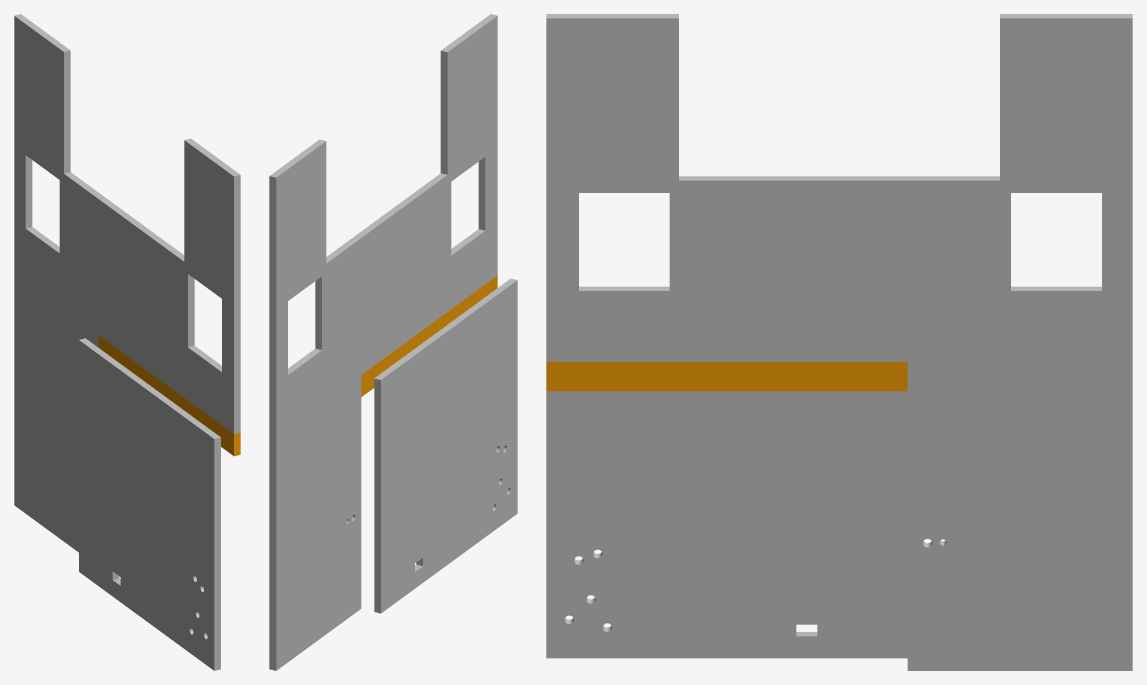
File: Phase33 (2).fbx
The picture shows the model from 3 angles, left to right: view 1: azimuth 30°, elevation 25°; view 2: azimuth 150°, elevation 25°; view 3: azimuth 270°, elevation 25°; orthographic projection. The views are drawn at different scales.
Parts seen in each view (by area): view 1: Базовая стена:CPS_Наружная_Сэндвич-панель120:453931, Базовая стена:CPS_Наружная_Сэндвич-панель120:453923, Базовая стена:CPS_Наружная_Сэндвич-панель120:453941, Базовая стена:CPS_Наружная_Сэндвич-панель120:456876, Базовая стена:CPS_Наружная_Сэндвич-панель120:456884, Базовая стена:CPS_Наружная_Сэндвич-панель120:456436, Базовая стена:CPS_Наружная_Сэндвич-панель120:453695, Базовая стена:CPS_Наружная_Сэндвич-панель120:453907, Базовая стена:CPS_Наружная_Сэндвич-панель120:453915, Базовая стена:CPS_Наружная_Сэндвич-панель120:453949, Базовая стена:CPS_Наружная_Сэндвич-панель120:454328, Базовая стена:CPS_Наружная_Сэндвич-панель120:515156 (+1 smaller); view 2: Базовая стена:CPS_Наружная_Сэндвич-панель120:453923, Базовая стена:CPS_Наружная_Сэндвич-панель120:453931, Базовая стена:CPS_Наружная_Сэндвич-панель120:453941, Базовая стена:CPS_Наружная_Сэндвич-панель120:456884, Базовая стена:CPS_Наружная_Сэндвич-панель120:456876, Базовая стена:CPS_Наружная_Сэндвич-панель120:456436, Базовая стена:CPS_Наружная_Сэндвич-панель120:453695, Базовая стена:CPS_Наружная_Сэндвич-панель120:453915, Базовая стена:CPS_Наружная_Сэндвич-панель120:453907, Базовая стена:CPS_Наружная_Сэндвич-панель120:453949, Базовая стена:CPS_Наружная_Сэндвич-панель120:454328, Базовая стена:CPS_Наружная_Сэндвич-панель120:515156 (+1 smaller); view 3: Базовая стена:CPS_Наружная_Сэндвич-панель120:453923, Базовая стена:CPS_Наружная_Сэндвич-панель120:453931, Базовая стена:CPS_Наружная_Сэндвич-панель120:456876, Базовая стена:CPS_Наружная_Сэндвич-панель120:456436, Базовая стена:CPS_Наружная_Сэндвич-панель120:453941, Базовая стена:CPS_Наружная_Сэндвич-панель120:456884, Базовая стена:CPS_Наружная_Сэндвич-панель120:453915, Базовая стена:CPS_Наружная_Сэндвич-панель120:453695, Базовая стена:CPS_Наружная_Сэндвич-панель120:453907, Базовая стена:CPS_Наружная_Сэндвич-панель120:453949, Базовая стена:CPS_Наружная_Сэндвич-панель120:454328, Базовая стена:CPS_Наружная_Сэндвич-панель120:444670.
Boxes of the visible parts, <box> form: Базовая стена:CPS_Наружная_Сэндвич-панель120:453931: <box>14,156,240,386</box>; Базовая стена:CPS_Наружная_Сэндвич-панель120:453923: <box>14,226,240,434</box>; Базовая стена:CPS_Наружная_Сэндвич-панель120:453941: <box>14,86,240,316</box>; Базовая стена:CPS_Наружная_Сэндвич-панель120:456876: <box>79,432,220,600</box>; Базовая стена:CPS_Наружная_Сэндвич-панель120:456884: <box>79,362,220,530</box>; Базовая стена:CPS_Наружная_Сэндвич-панель120:456436: <box>79,502,220,670</box>; Базовая стена:CPS_Наружная_Сэндвич-панель120:453695: <box>14,435,78,552</box>; Базовая стена:CPS_Наружная_Сэндвич-панель120:453907: <box>14,366,78,482</box>; Базовая стена:CPS_Наружная_Сэндвич-панель120:453915: <box>14,296,78,412</box>; Базовая стена:CPS_Наружная_Сэндвич-панель120:453949: <box>184,138,240,246</box>; Базовая стена:CPS_Наружная_Сэндвич-панель120:454328: <box>14,14,70,121</box>; Базовая стена:CPS_Наружная_Сэндвич-панель120:515156: <box>79,338,220,460</box>; Базовая стена:CPS_Наружная_Сэндвич-панель120:453923: <box>269,227,497,459</box>; Базовая стена:CPS_Наружная_Сэндвич-панель120:453931: <box>269,157,497,388</box>; Базовая стена:CPS_Наружная_Сэндвич-панель120:453941: <box>269,86,497,318</box>; Базовая стена:CPS_Наружная_Сэндвич-панель120:456884: <box>374,302,517,472</box>; Базовая стена:CPS_Наружная_Сэндвич-панель120:456876: <box>374,373,517,542</box>; Базовая стена:CPS_Наружная_Сэндвич-панель120:456436: <box>374,443,517,613</box>; Базовая стена:CPS_Наружная_Сэндвич-панель120:453695: <box>269,538,361,670</box>; Базовая стена:CPS_Наружная_Сэндвич-панель120:453915: <box>269,397,361,529</box>; Базовая стена:CPS_Наружная_Сэндвич-панель120:453907: <box>269,468,361,600</box>; Базовая стена:CPS_Наружная_Сэндвич-панель120:453949: <box>440,14,497,122</box>; Базовая стена:CPS_Наружная_Сэндвич-панель120:454328: <box>269,139,326,247</box>; Базовая стена:CPS_Наружная_Сэндвич-панель120:515156: <box>374,278,517,401</box>; Базовая стена:CPS_Наружная_Сэндвич-панель120:453923: <box>546,298,1132,391</box>; Базовая стена:CPS_Наружная_Сэндвич-панель120:453931: <box>546,205,1132,297</box>; Базовая стена:CPS_Наружная_Сэндвич-панель120:456876: <box>546,471,907,564</box>; Базовая стена:CPS_Наружная_Сэндвич-панель120:456436: <box>546,565,907,658</box>; Базовая стена:CPS_Наружная_Сэндвич-панель120:453941: <box>546,111,1132,204</box>; Базовая стена:CPS_Наружная_Сэндвич-панель120:456884: <box>546,391,907,471</box>; Базовая стена:CPS_Наружная_Сэндвич-панель120:453915: <box>907,391,1132,484</box>; Базовая стена:CPS_Наружная_Сэндвич-панель120:453695: <box>907,577,1132,670</box>; Базовая стена:CPS_Наружная_Сэндвич-панель120:453907: <box>907,484,1132,577</box>; Базовая стена:CPS_Наружная_Сэндвич-панель120:453949: <box>546,14,678,111</box>; Базовая стена:CPS_Наружная_Сэндвич-панель120:454328: <box>1000,14,1132,111</box>; Базовая стена:CPS_Наружная_Сэндвич-панель120:444670: <box>546,362,907,391</box>.
Bounding box in the file's own units: 470 × 6780 × 8330.
